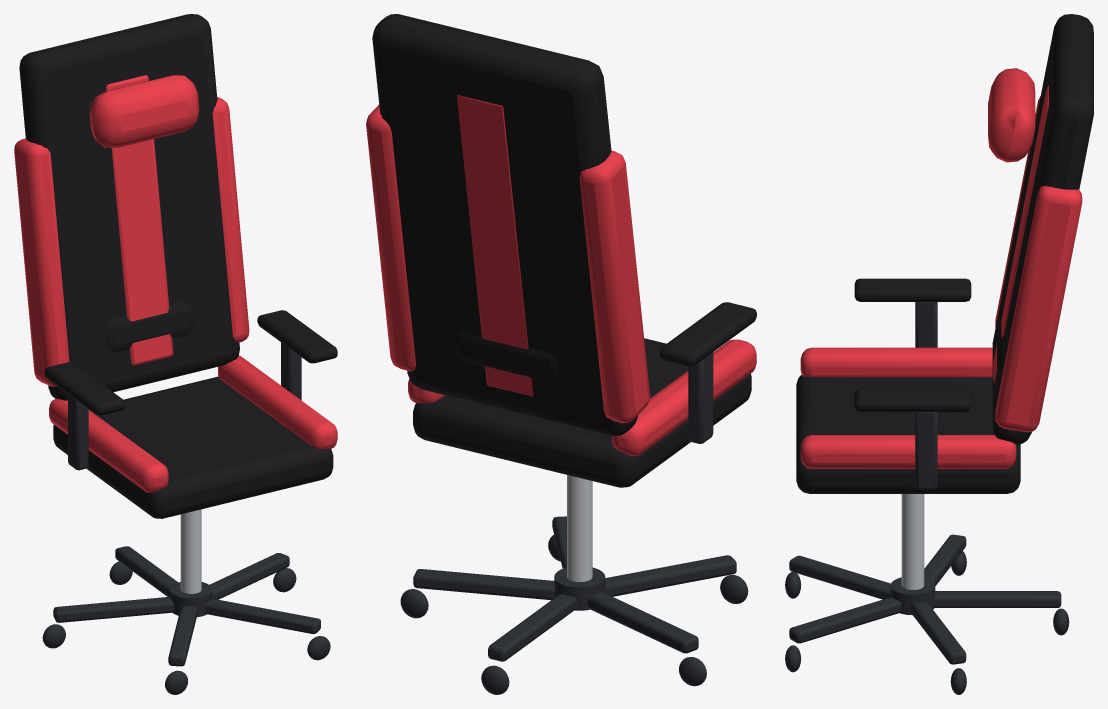
Rendered from chair_gaming.fbx.
The picture shows the model from 3 angles, left to right: view 1: azimuth 30°, elevation 25°; view 2: azimuth 150°, elevation 25°; view 3: azimuth 270°, elevation 25°; orthographic projection. The views are drawn at different scales.
Parts seen in each view (by area): view 1: ChairGaming; view 2: ChairGaming; view 3: ChairGaming.
Boxes of the visible parts, left/top/right/bottom form: ChairGaming: left=14, top=14, right=337, bottom=694; ChairGaming: left=366, top=14, right=756, bottom=694; ChairGaming: left=785, top=14, right=1093, bottom=694.
Size of the model in its own units: 0.6877 by 1.42 by 0.6879.
